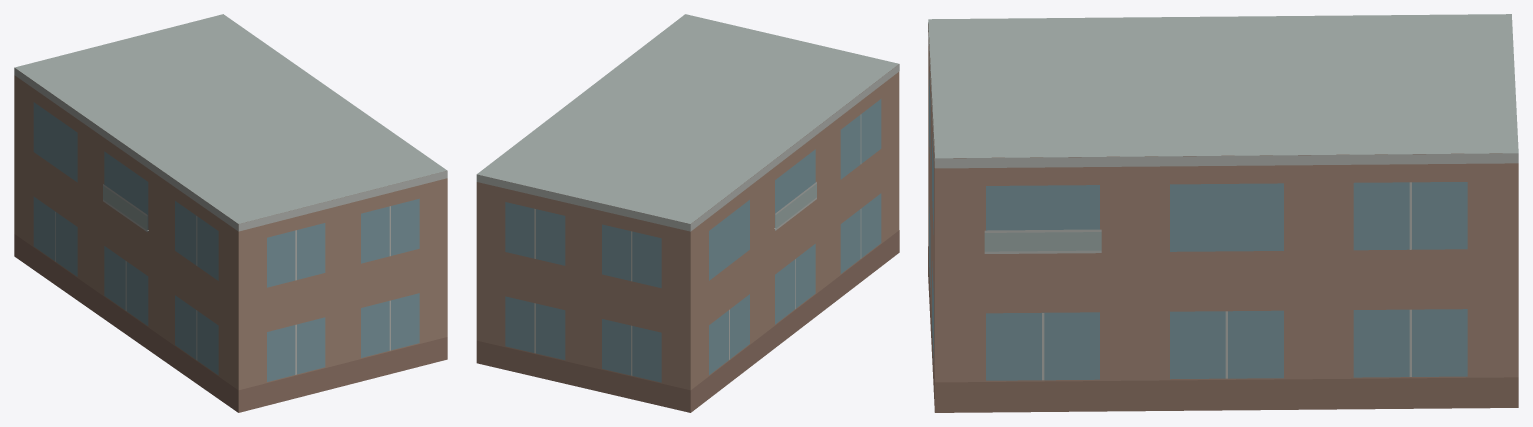
Rendered from survey-upis-32686049.glb.
3 views of the same model, side by side, from view 1: azimuth 30°, elevation 25°; view 2: azimuth 150°, elevation 25°; view 3: azimuth 270°, elevation 25° (orthographic). The views are drawn at different scales.
Visible parts, largest first — view 1: survey-upis-32686049.tmp; view 2: survey-upis-32686049.tmp; view 3: survey-upis-32686049.tmp.
Part boxes in pixels (x1=…): survey-upis-32686049.tmp: x1=14, y1=14, x2=447, y2=412; survey-upis-32686049.tmp: x1=476, y1=14, x2=899, y2=412; survey-upis-32686049.tmp: x1=928, y1=14, x2=1518, y2=412.
Size of the model in its own units: 7.43 by 6.1 by 12.84.
